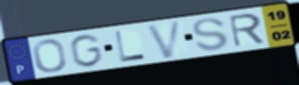G: (67, 33, 104, 68)
L: (113, 29, 149, 64)
O: (31, 38, 69, 74)
R: (227, 12, 267, 49)
S: (191, 17, 231, 53)
V: (144, 19, 185, 61)
